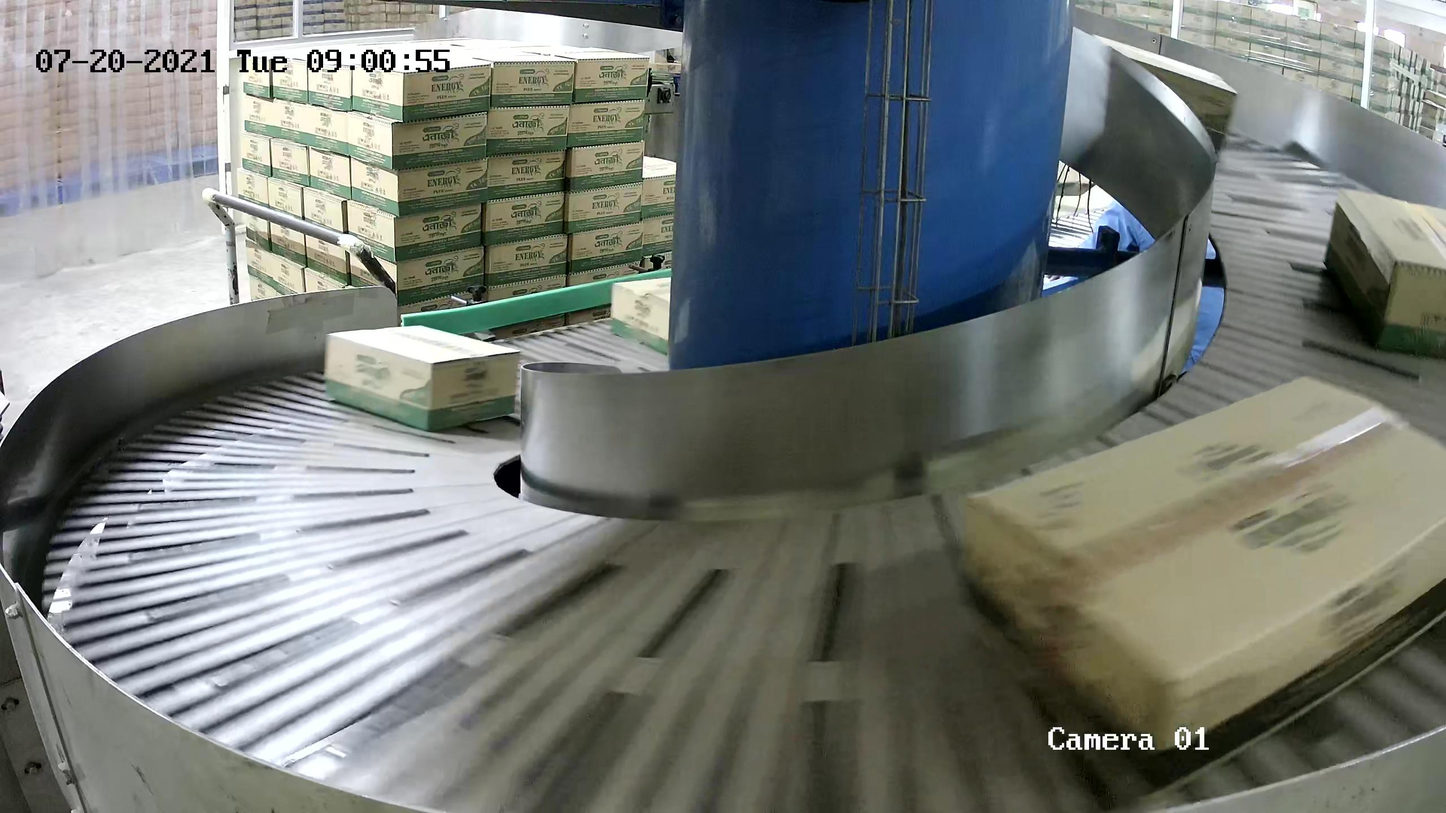Box: (953, 373, 1446, 813), (323, 324, 521, 433), (1322, 188, 1446, 358), (610, 277, 671, 355)
